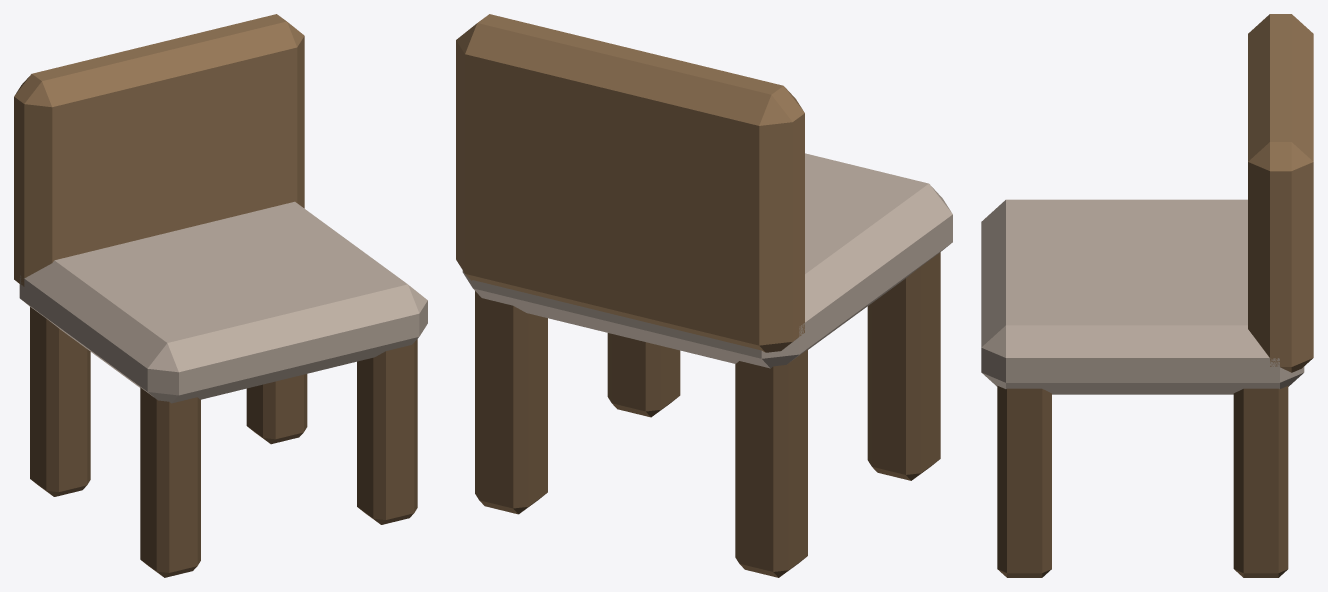
Rendered from wooden_chair.glb.
3 views of the same model, side by side, from view 1: azimuth 30°, elevation 25°; view 2: azimuth 150°, elevation 25°; view 3: azimuth 270°, elevation 25° (orthographic). The views are drawn at different scales.
Bounding box in the file's own units: 0.6336 × 0.8788 × 0.6072.
